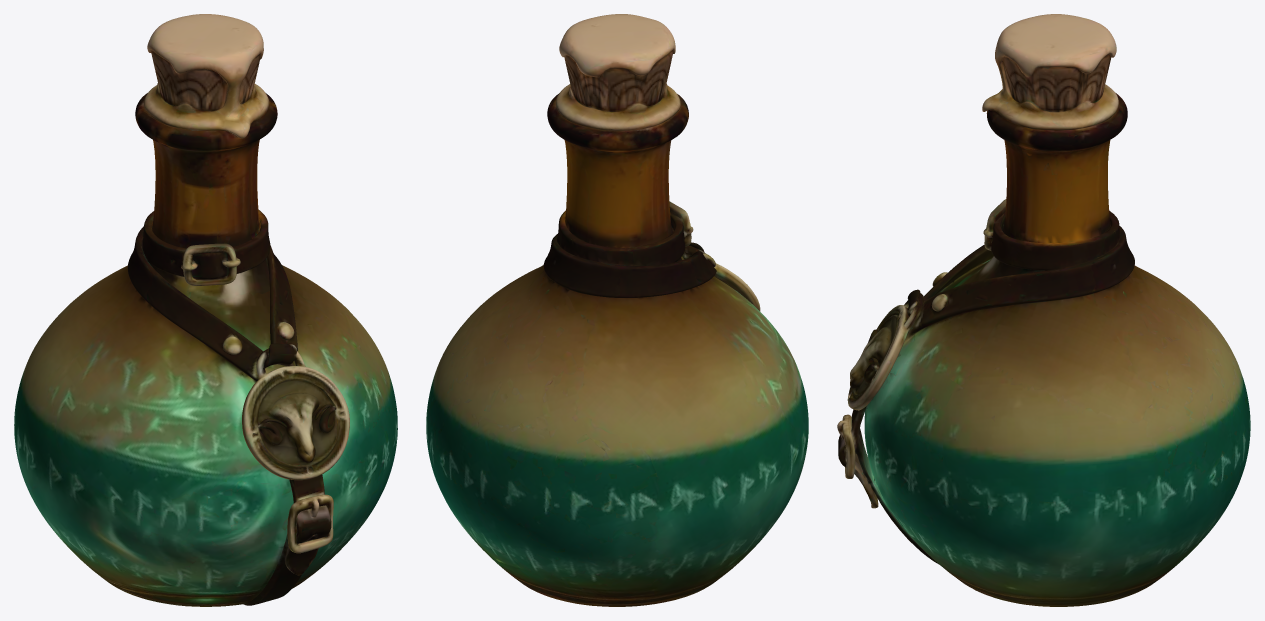
The model's file is potion-bottle-alt.glb.
3 views of the same model, side by side, from view 1: azimuth 30°, elevation 25°; view 2: azimuth 150°, elevation 25°; view 3: azimuth 270°, elevation 25° (orthographic).
Visible parts, largest first — view 1: material; view 2: material; view 3: material.
Boxes of the visible parts, x1,y1,x2,y2 form: material: (14,14,397,606); material: (426,14,808,606); material: (837,14,1250,606).
Bounding box in the file's own units: 0.734 × 1.13 × 0.7917.
Materials: 1 (1 with a texture image).
